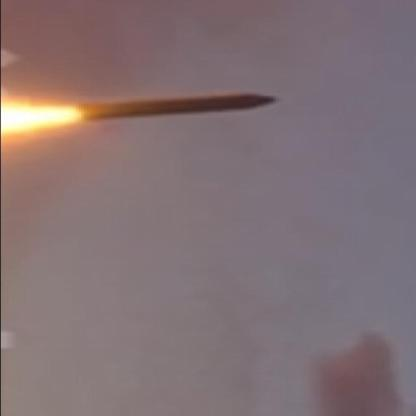MIL_TBM: (69, 90, 284, 128)
